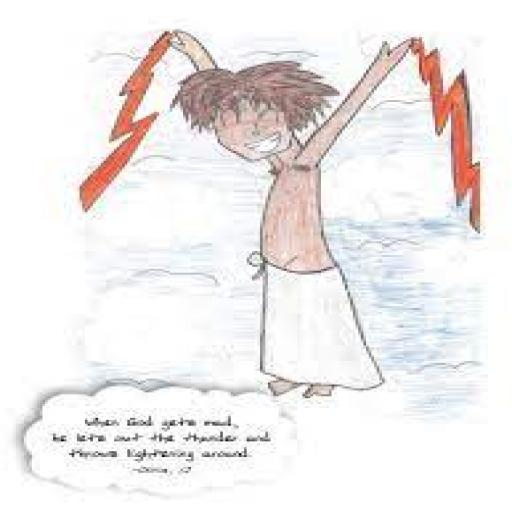person: (80, 24, 488, 420)
